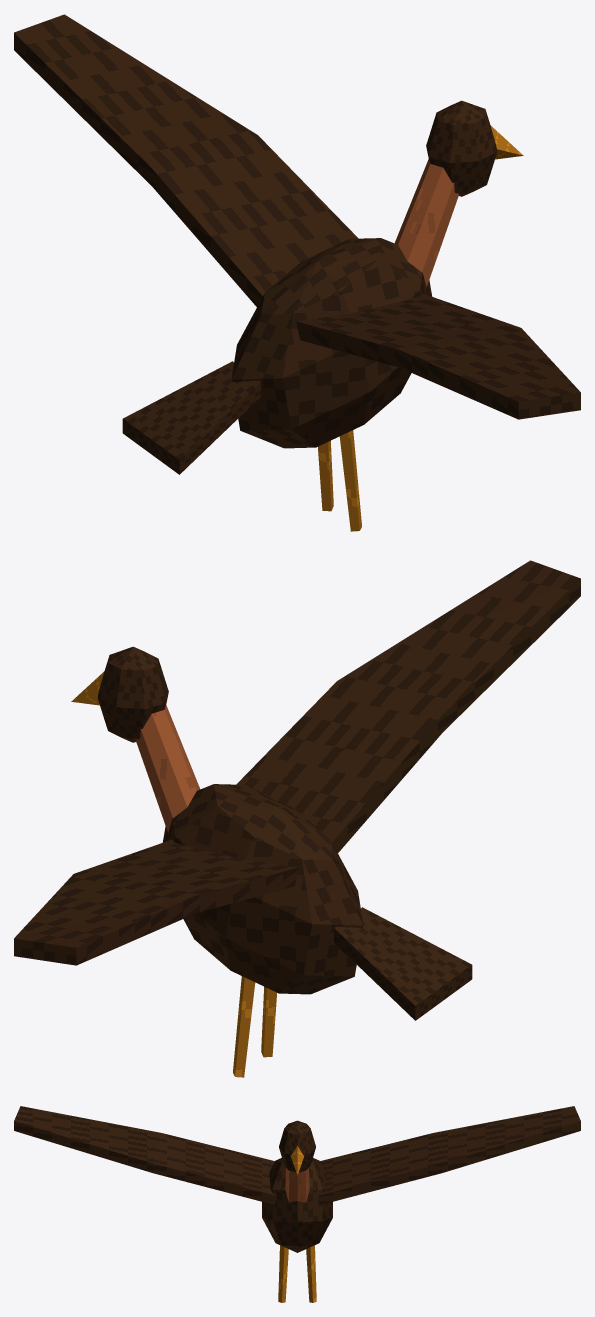
File: buitre.glb
3 views of the same model, one above another, from view 1: azimuth 30°, elevation 25°; view 2: azimuth 150°, elevation 25°; view 3: azimuth 270°, elevation 25° (orthographic). The views are drawn at different scales.
Visible parts, largest first — view 1: ala_izq, cuerpo, ala_der, cola, cabeza, cuello, patas; view 2: ala_der, cuerpo, ala_izq, cola, cabeza, cuello, patas; view 3: ala_der, ala_izq, cuerpo, cabeza, patas, cuello.
Boxes of the visible parts, x1,y1,x2,y2 form: ala_izq: [14, 14, 358, 306]; cuerpo: [231, 238, 432, 448]; ala_der: [296, 293, 580, 419]; cola: [122, 361, 260, 474]; cabeza: [426, 100, 497, 196]; cuello: [394, 159, 459, 286]; patas: [318, 430, 361, 531]; ala_der: [236, 560, 580, 852]; cuerpo: [162, 784, 363, 994]; ala_izq: [14, 839, 298, 965]; cola: [334, 907, 472, 1020]; cabeza: [97, 646, 168, 742]; cuello: [135, 705, 200, 832]; patas: [233, 976, 276, 1077]; ala_der: [14, 1106, 276, 1204]; ala_izq: [318, 1106, 580, 1204]; cuerpo: [262, 1158, 332, 1252]; cabeza: [279, 1120, 315, 1172]; patas: [278, 1245, 316, 1302]; cuello: [285, 1168, 309, 1202].
Bounding box in the file's own units: 1 × 1 × 2.4.
Materials: 1 (1 with a texture image).
